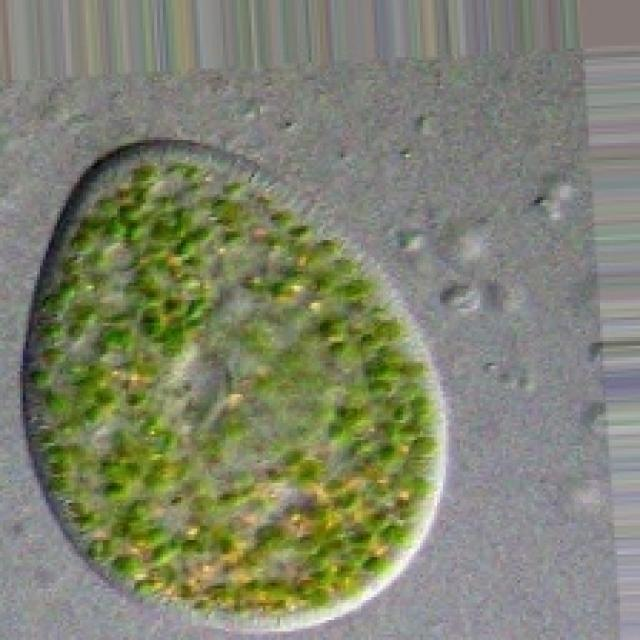Amoeba: (26, 148, 446, 623)
